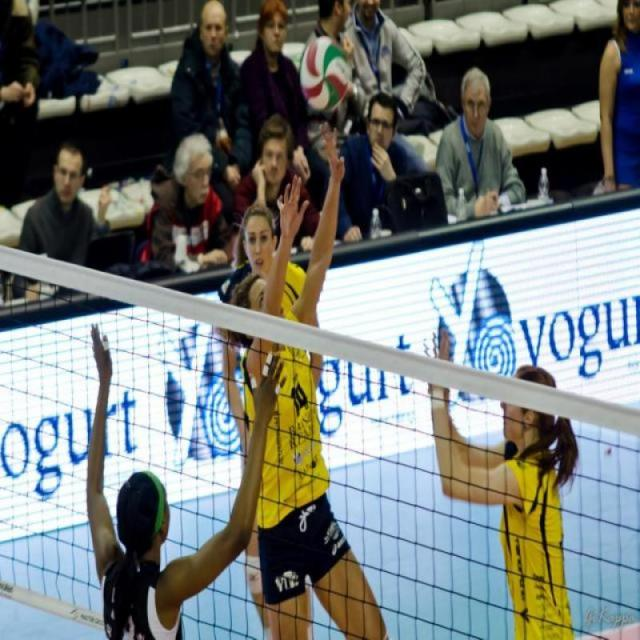volleyball: (298, 33, 353, 116)
